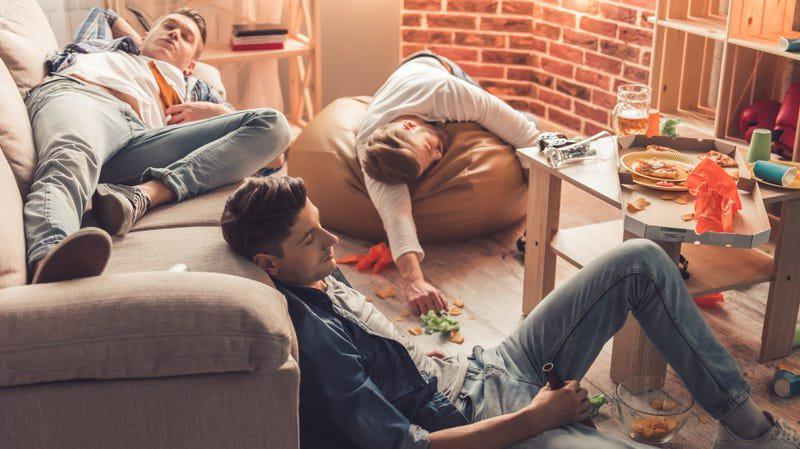Drunk: (150, 13, 196, 64)
